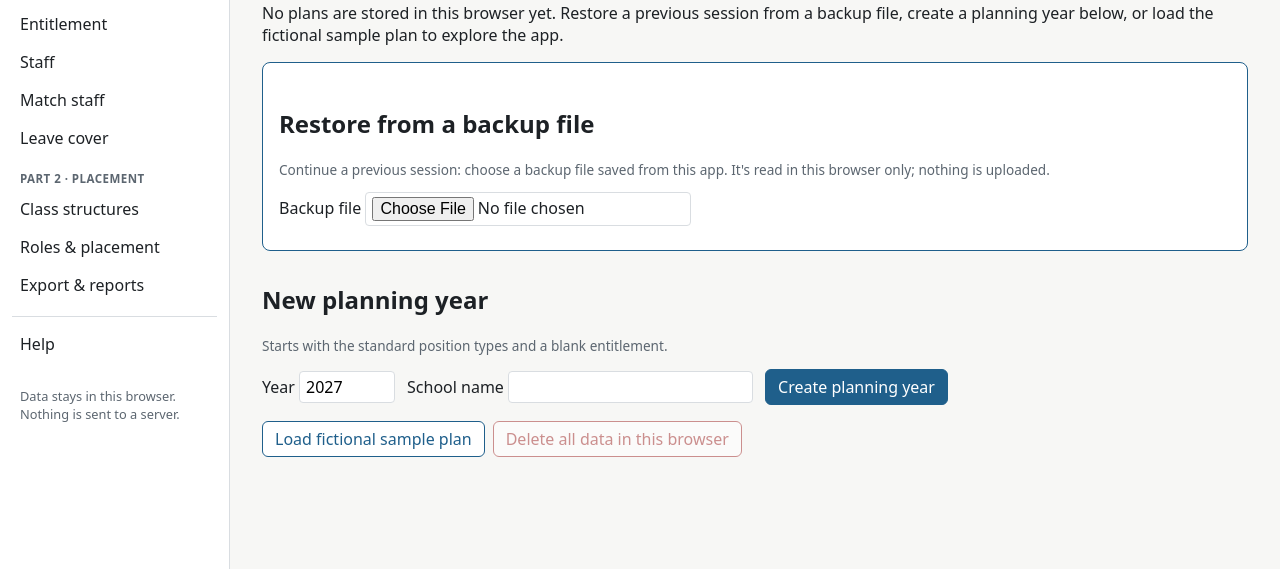
Test case: Class structures › lets the accepted structure be edited, checks placement and renames the linked role
Click the button "Load fictional sample plan" at [373, 439], box 262,421 -> 485,457
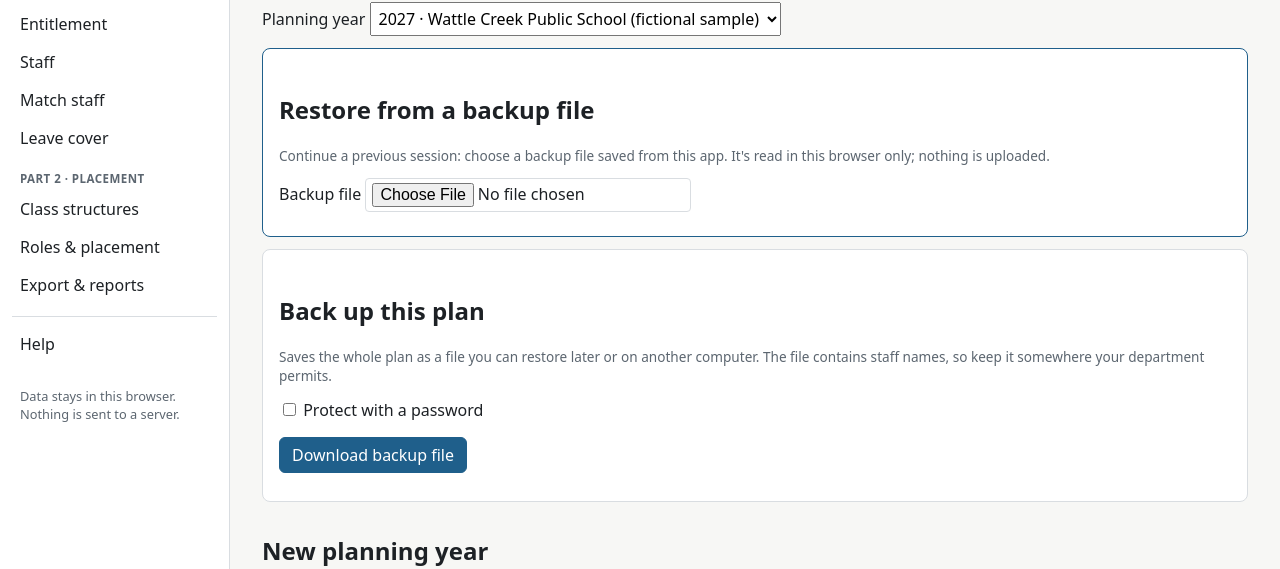
Click the link "Class structures" at [80, 209], box 20,198 -> 139,220
(page scrolled)
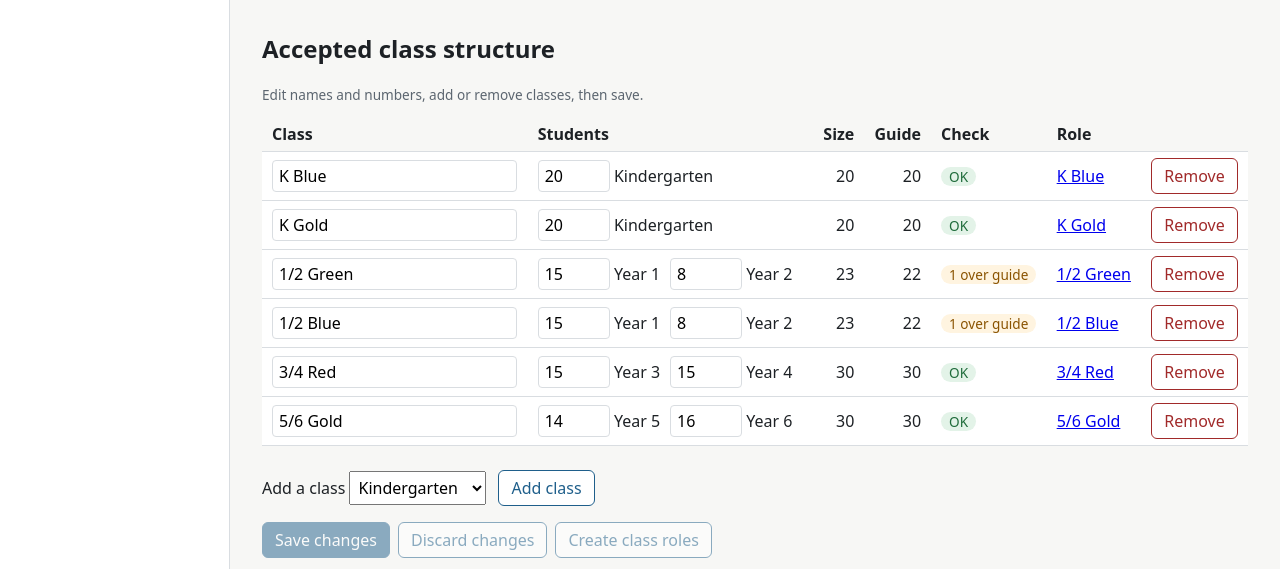
Now the button "Create class roles" is disabled, box 555,522 -> 712,558
Replace the text in the field named "Year 1 students in 1/2 Green" with "14" at [574, 274], box 538,258 -> 610,290
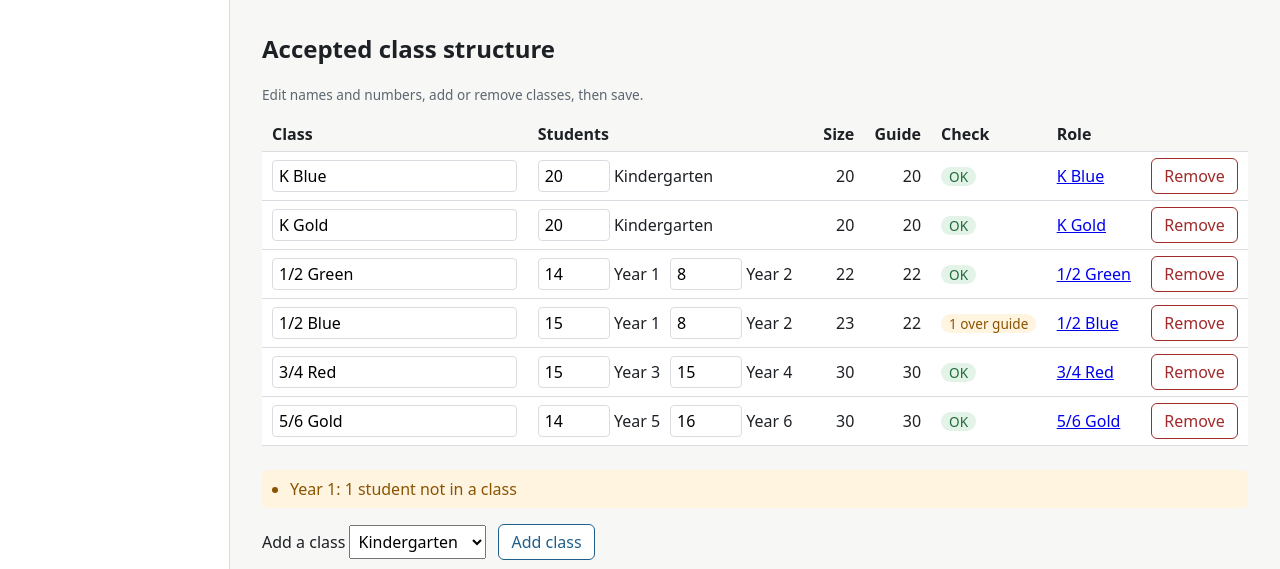
Now the message named "Placement check" reads "Year 1: 1 student not in a class", box 262,470 -> 1248,508
Replace the text in the field named "Year 1 students in 1/2 Green" with "15" at [574, 274], box 538,258 -> 610,290
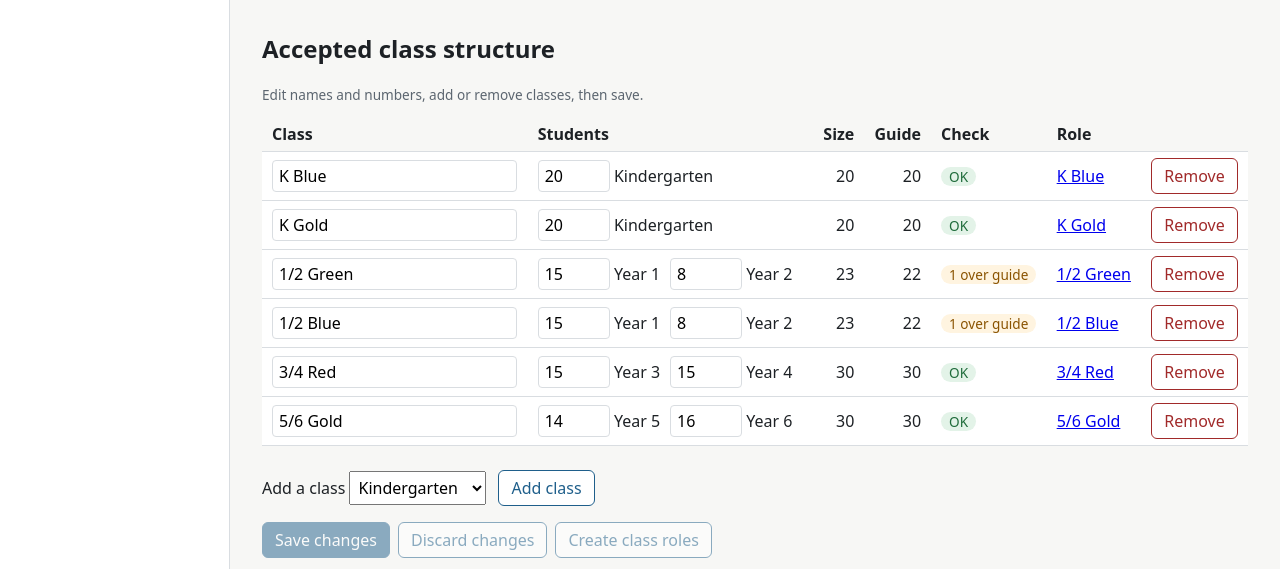
Replace the text in the field named "Name of class K Blue" with "K Teal" at [394, 176], box 272,160 -> 517,192
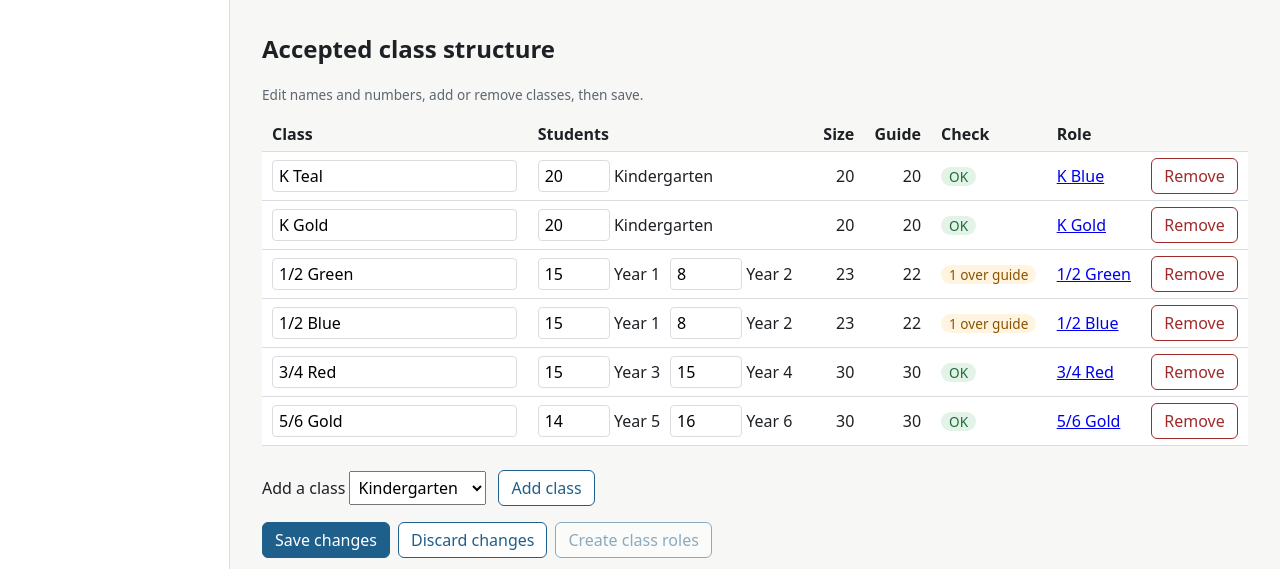
Click the button "Save changes" at [326, 540], box 262,522 -> 390,558
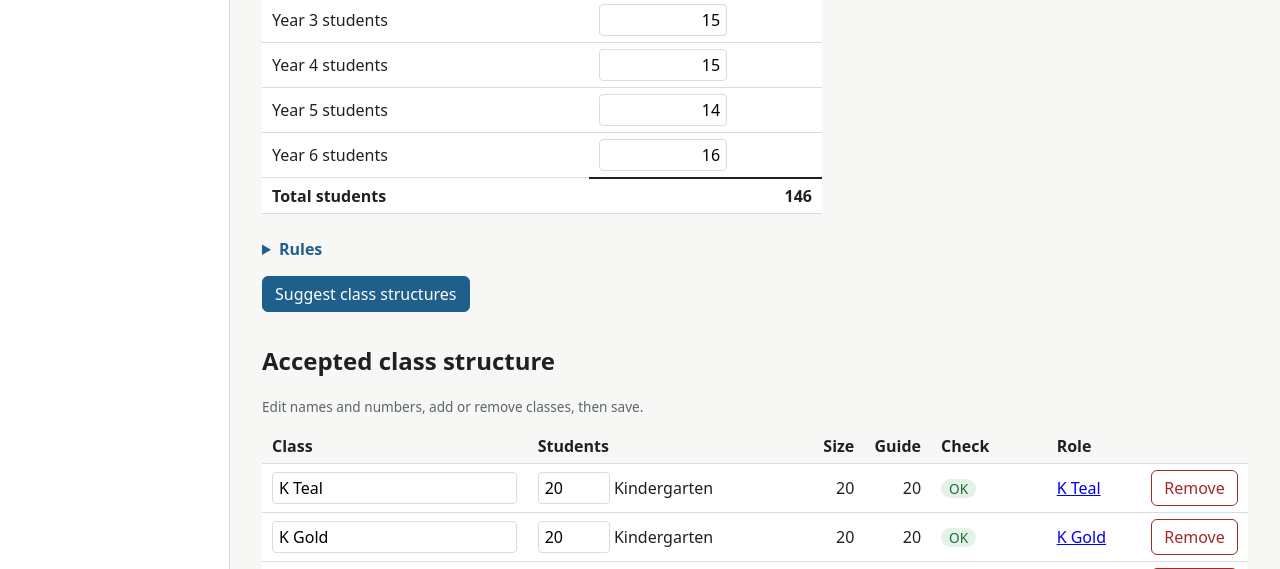
Now the link "K Teal" is shown, box 1057,477 -> 1101,499
